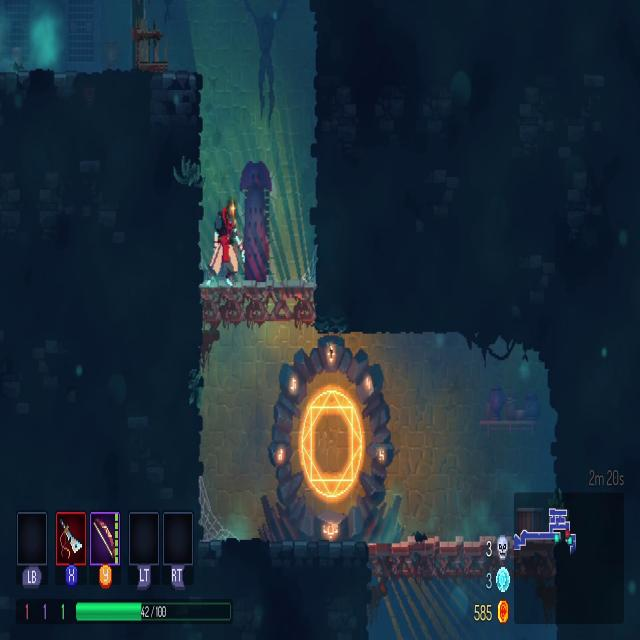agents: (206, 203, 245, 290)
wood_floor: (368, 534, 556, 580), (203, 280, 318, 327)
